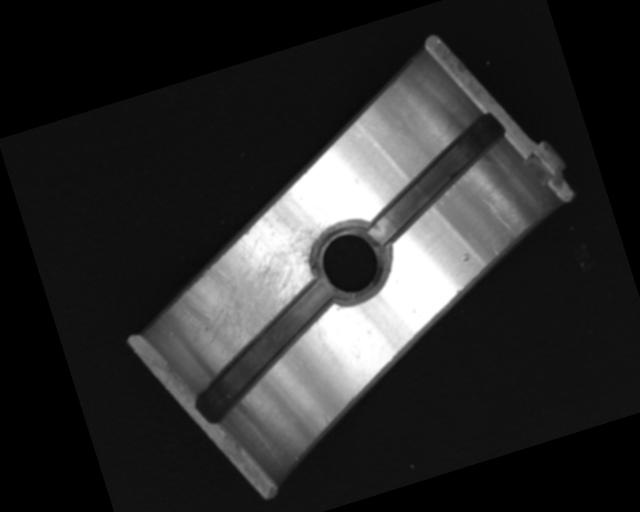bruise: (459, 251, 472, 263)
gap: (175, 279, 355, 425), (346, 111, 524, 247)
hole: (304, 212, 396, 310)
nick: (482, 191, 518, 241)
scratch: (167, 190, 355, 366)
